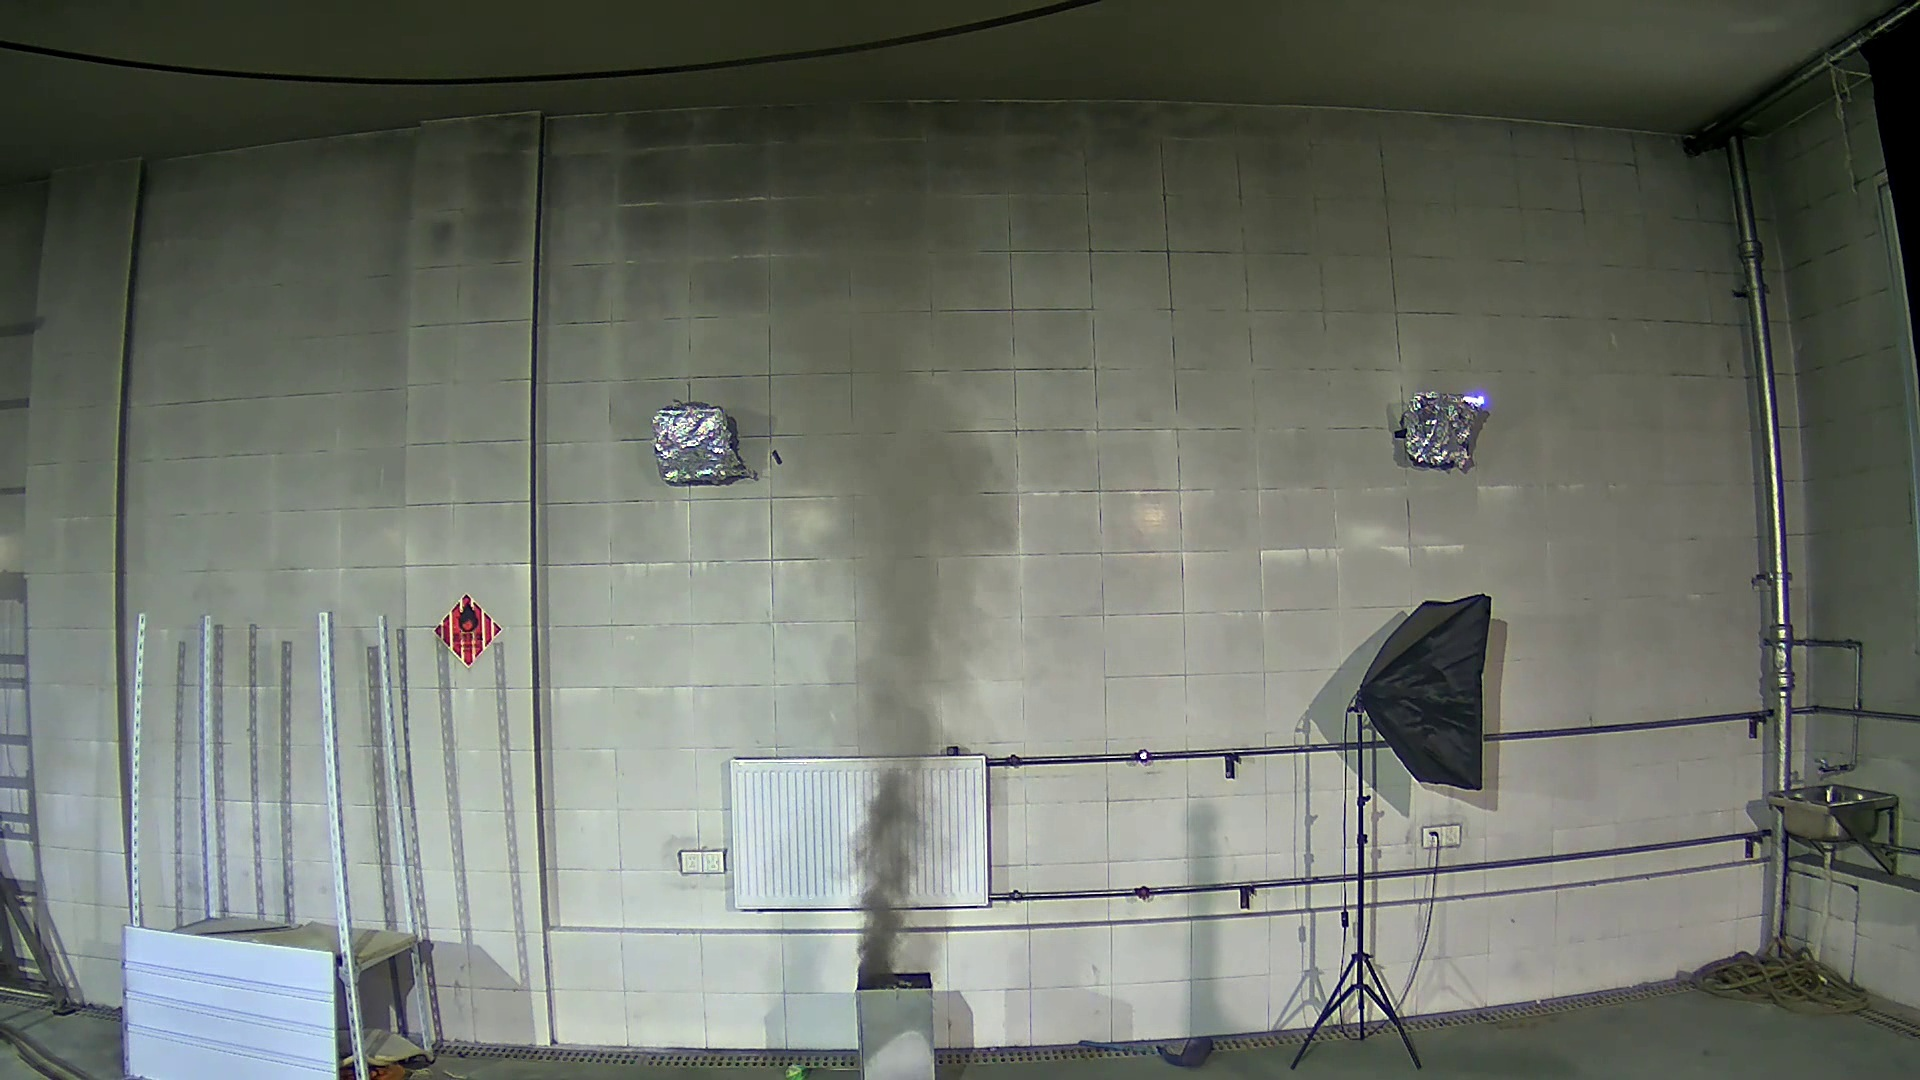smoke: (789, 378, 1042, 978)
